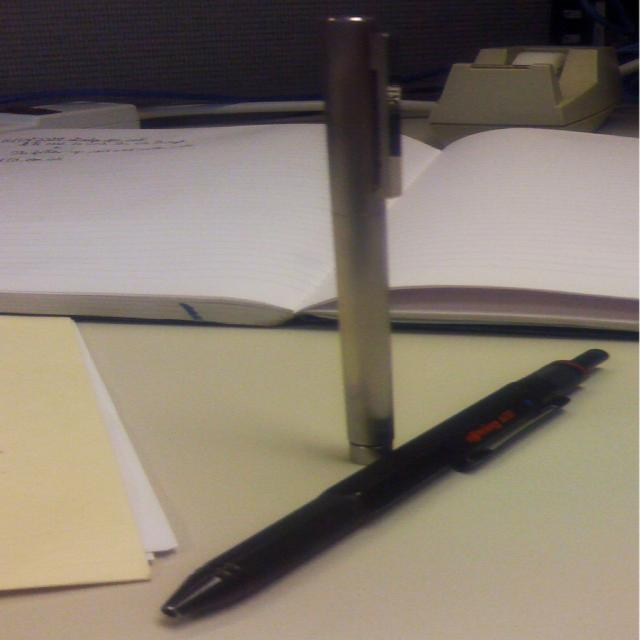pen: (155, 348, 617, 619), (306, 9, 410, 472)
